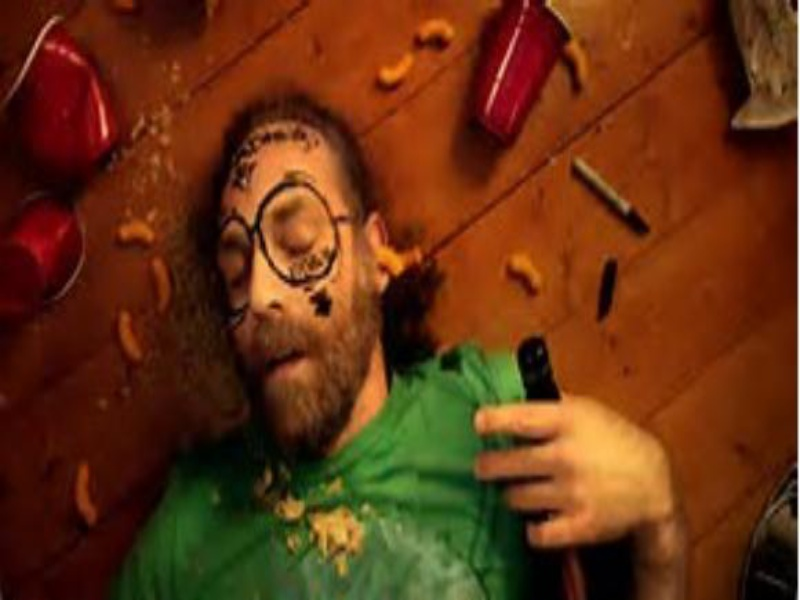TsisyArotava: (185, 104, 417, 479)
